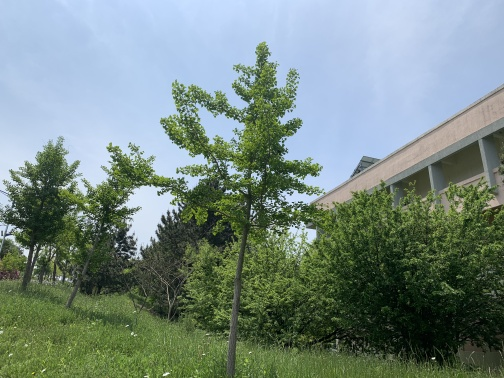College Of Education: (293, 80, 504, 248)
